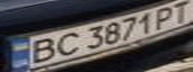1: (133, 9, 160, 36)
3: (81, 24, 106, 52)
7: (118, 13, 142, 42)
8: (103, 19, 124, 46)
B: (21, 35, 63, 65)
C: (48, 29, 84, 58)
P: (148, 3, 181, 32)
T: (166, 0, 193, 25)
